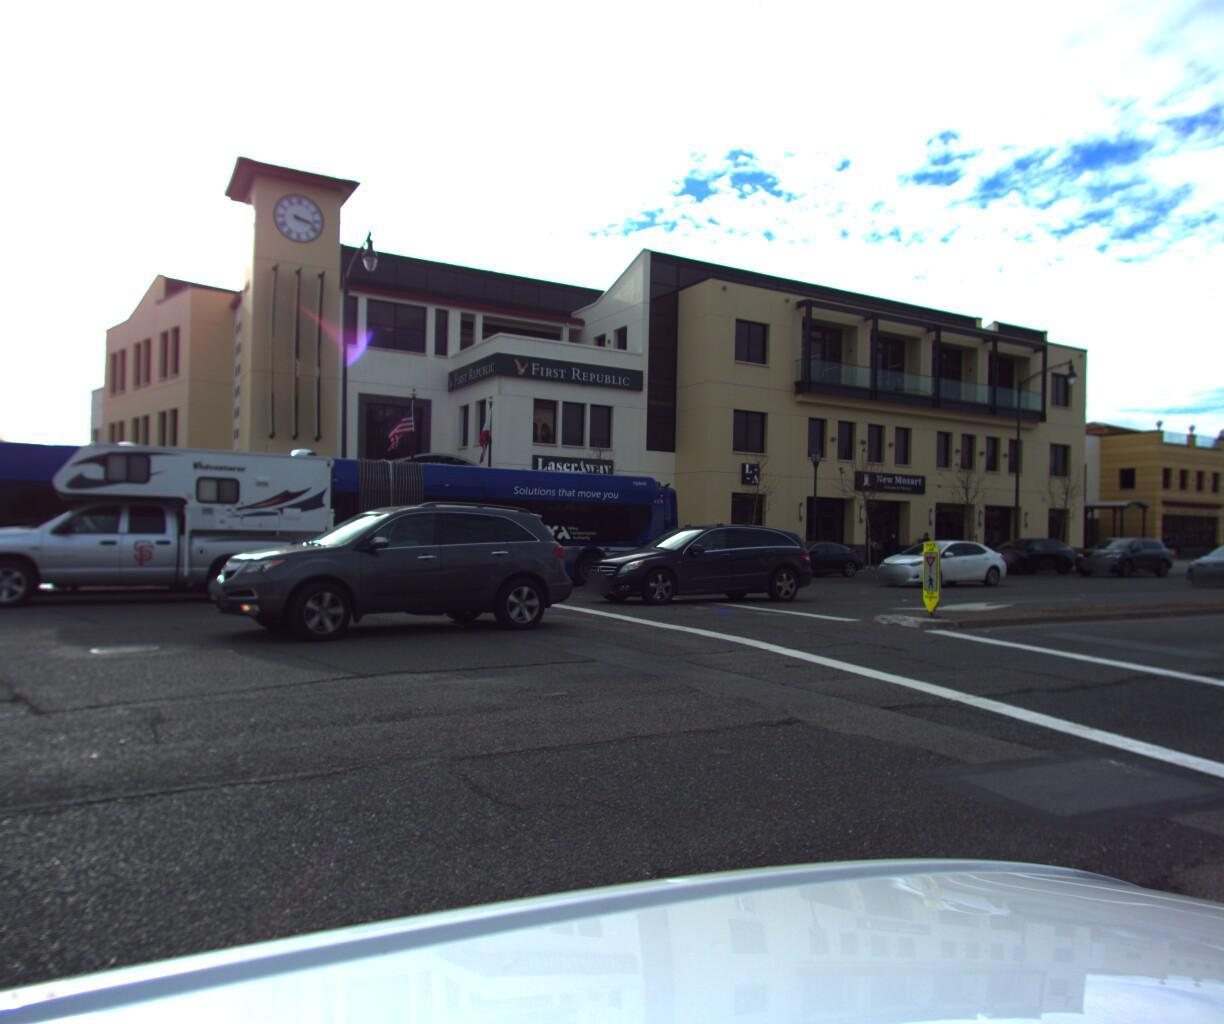car: (192, 493, 585, 641), (580, 513, 815, 604), (866, 535, 1013, 587), (747, 534, 869, 578), (968, 533, 1079, 575), (1067, 536, 1171, 573), (1175, 539, 1224, 586)
